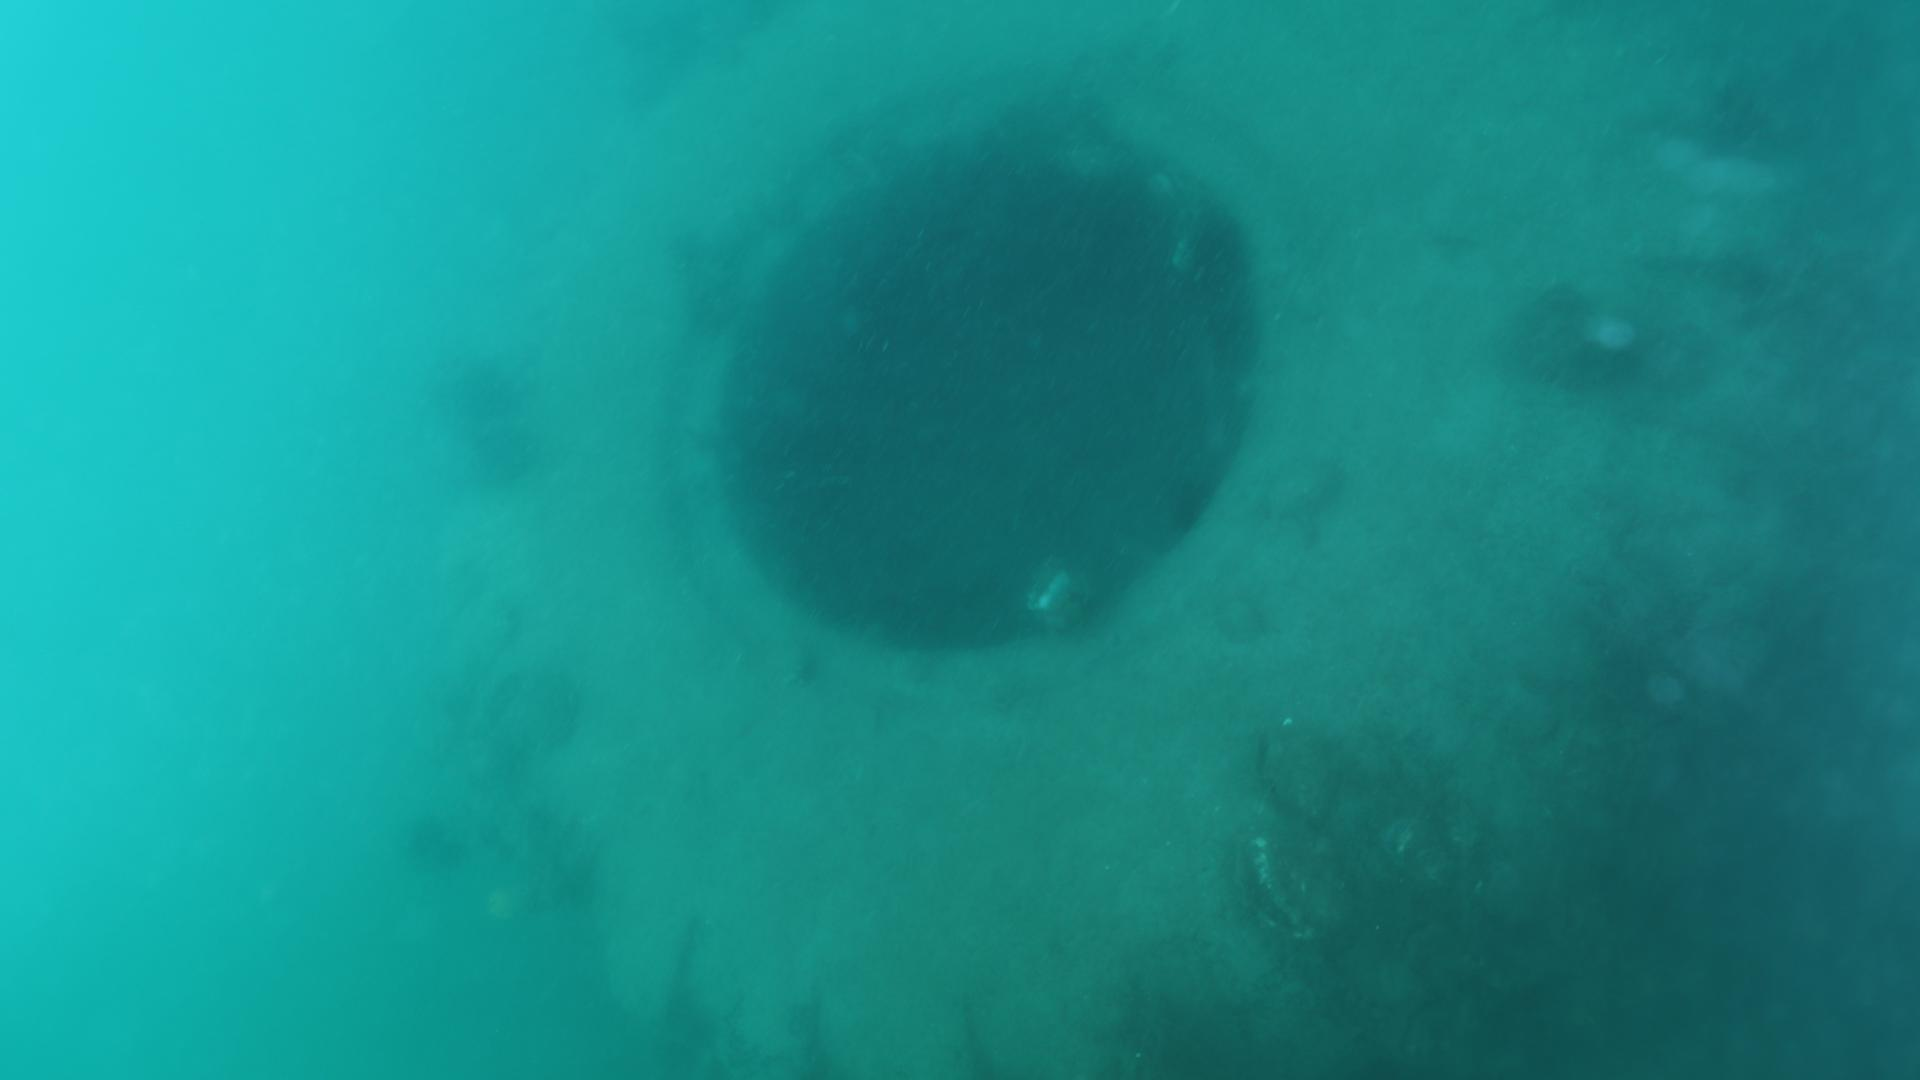tire: (452, 0, 1785, 1080)
